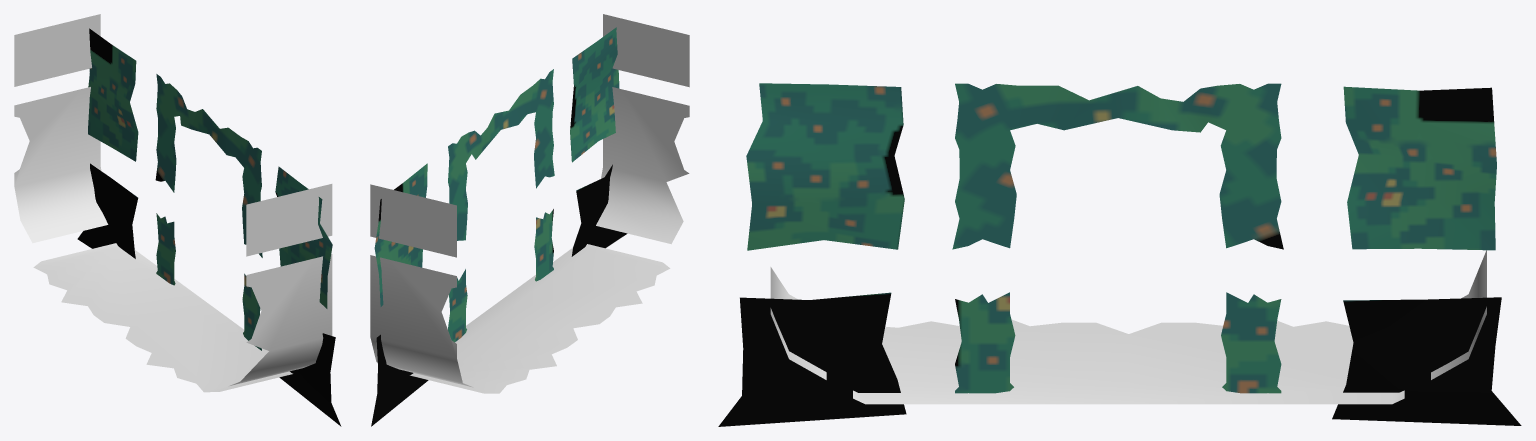
File: Walls3стадия.fbx
3 renders of one model, left to right at view 1: azimuth 30°, elevation 25°; view 2: azimuth 150°, elevation 25°; view 3: azimuth 270°, elevation 25°, orthographic. The views are drawn at different scales.
Parts seen in each view (by area): view 1: Cube.006, Cube.007; view 2: Cube.006, Cube.007; view 3: Cube.007, Cube.006.
Boxes of the visible parts, left/top/right/bottom form: Cube.006: left=14, top=14, right=332, bottom=392; Cube.007: left=77, top=28, right=341, bottom=426; Cube.006: left=370, top=14, right=689, bottom=393; Cube.007: left=371, top=27, right=627, bottom=426; Cube.007: left=718, top=83, right=1521, bottom=426; Cube.006: left=770, top=250, right=1486, bottom=404.
Size of the model in its own units: 81.47 by 159 by 325.
2 materials, 1 textured.
